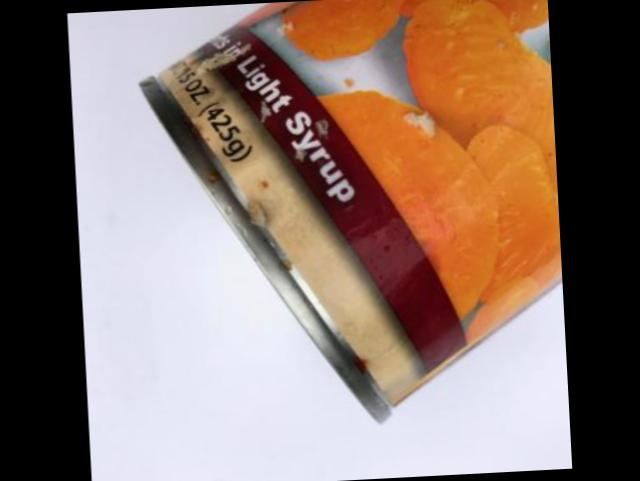metal: (139, 0, 560, 422)
